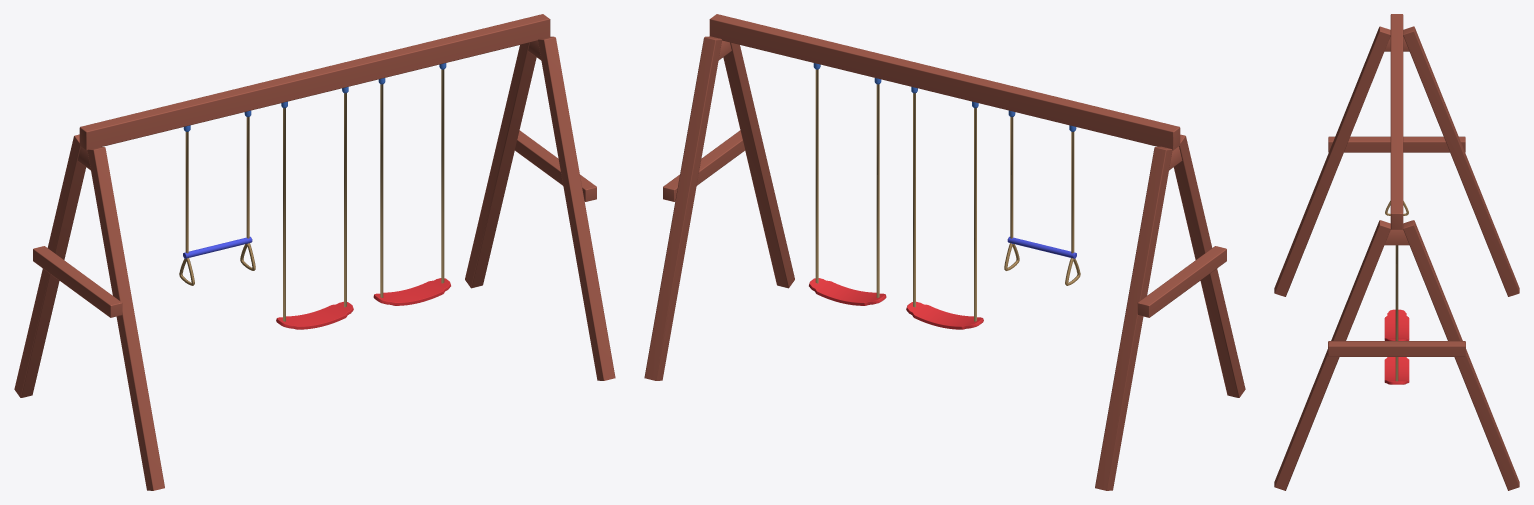
Rendered from Model_Session_1.fbx.
The picture shows the model from 3 angles, left to right: view 1: azimuth 30°, elevation 25°; view 2: azimuth 150°, elevation 25°; view 3: azimuth 270°, elevation 25°; orthographic projection. The views are drawn at different scales.
Parts seen in each view (by area): view 1: Playset_Swings_BY001, Playset_Swings_BY001.001, Playset_Swings_BY001.006, Playset_Swings_BY001.002; view 2: Playset_Swings_BY001, Playset_Swings_BY001.001, Playset_Swings_BY001.006, Playset_Swings_BY001.002; view 3: Playset_Swings_BY001, Playset_Swings_BY001.006, Playset_Swings_BY001.001.
Part boxes in pixels (x1,y1,x2,y2): Playset_Swings_BY001: (14,14,615,490); Playset_Swings_BY001.001: (283,69,444,321); Playset_Swings_BY001.006: (276,278,450,329); Playset_Swings_BY001.002: (179,117,255,285); Playset_Swings_BY001: (644,14,1245,490); Playset_Swings_BY001.001: (815,69,976,321); Playset_Swings_BY001.006: (809,278,983,329); Playset_Swings_BY001.002: (1004,117,1080,285); Playset_Swings_BY001: (1274,14,1519,490); Playset_Swings_BY001.006: (1384,309,1409,384); Playset_Swings_BY001.001: (1395,245,1398,381).
Size of the model in its own units: 406 by 251 by 201.
